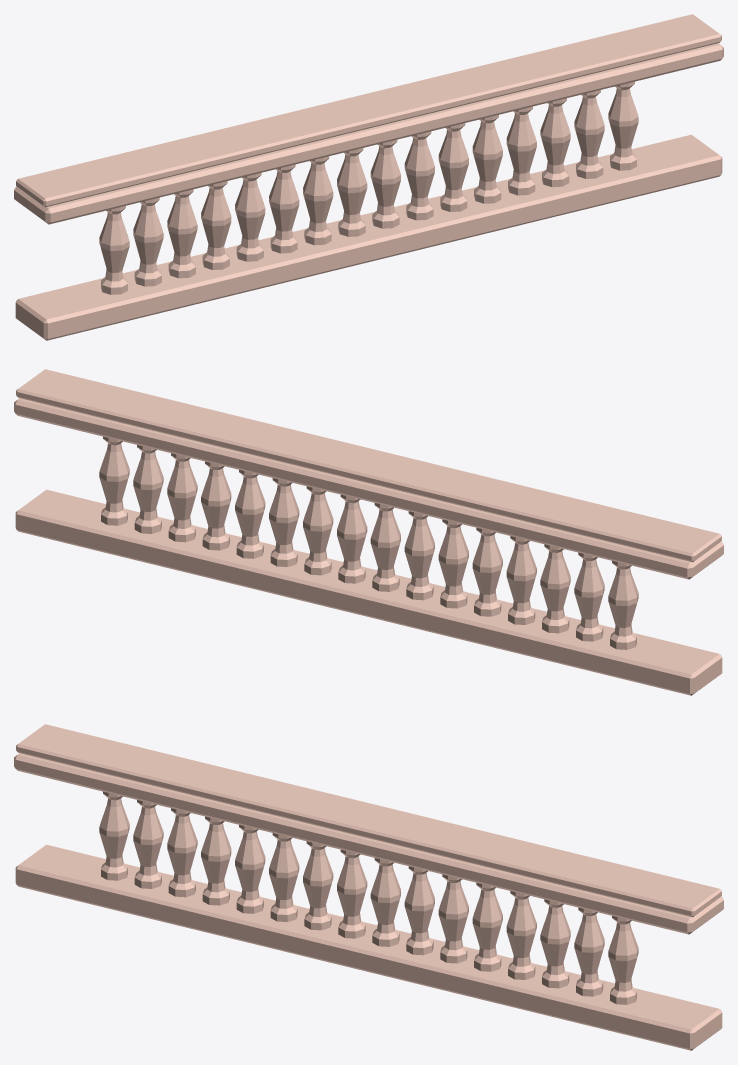
The model's file is Rempart_Balustrade.fbx.
3 views of the same model, one above another, from view 1: azimuth 30°, elevation 25°; view 2: azimuth 150°, elevation 25°; view 3: azimuth 330°, elevation 25° (orthographic).
Visible parts, largest first — view 1: Balustrade_Pierre; view 2: Balustrade_Pierre; view 3: Balustrade_Pierre.
Part boxes in pixels (bbox=[...]): Balustrade_Pierre: bbox=[14, 14, 723, 340]; Balustrade_Pierre: bbox=[14, 369, 723, 695]; Balustrade_Pierre: bbox=[14, 724, 723, 1050].
Size of the model in its own units: 20 by 4 by 1.8.
